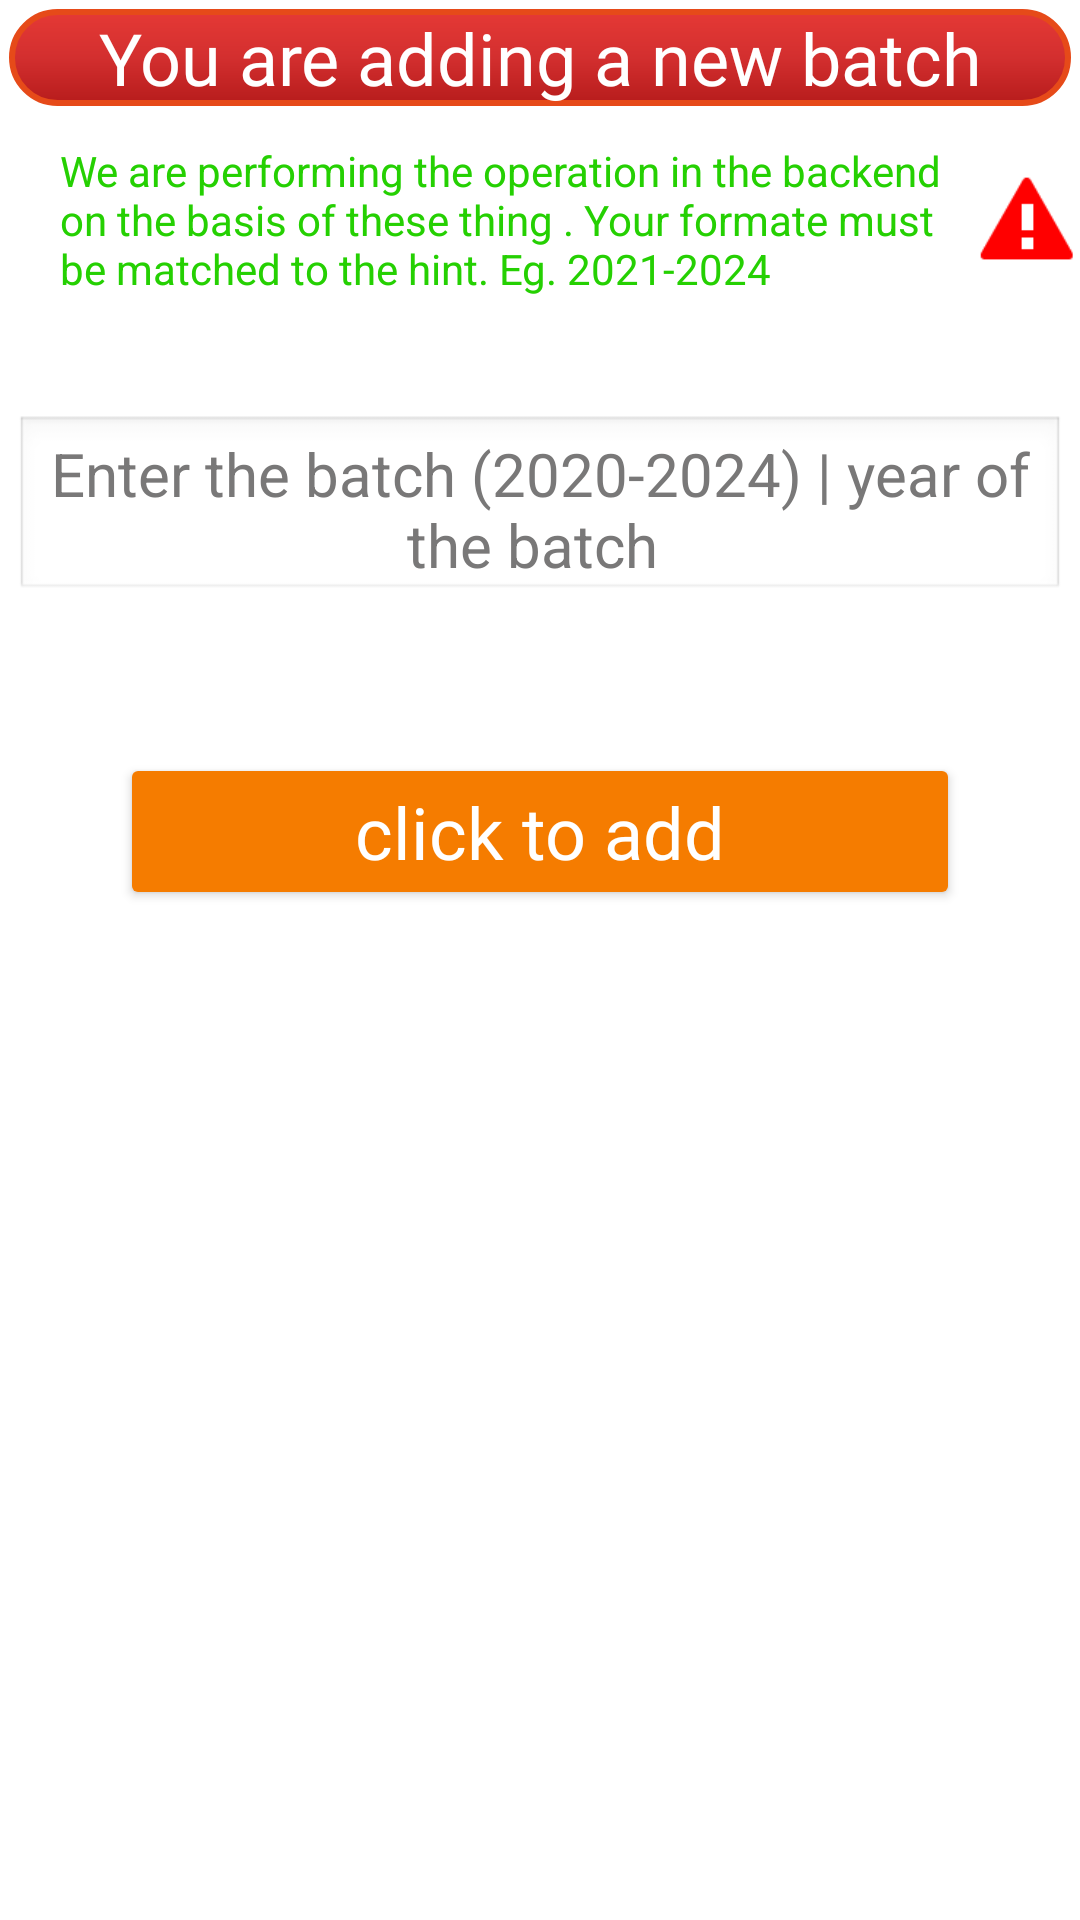

Icon click points for this 1080*1920 phone screenshot, format (x,y):
warning: (1026,218)
